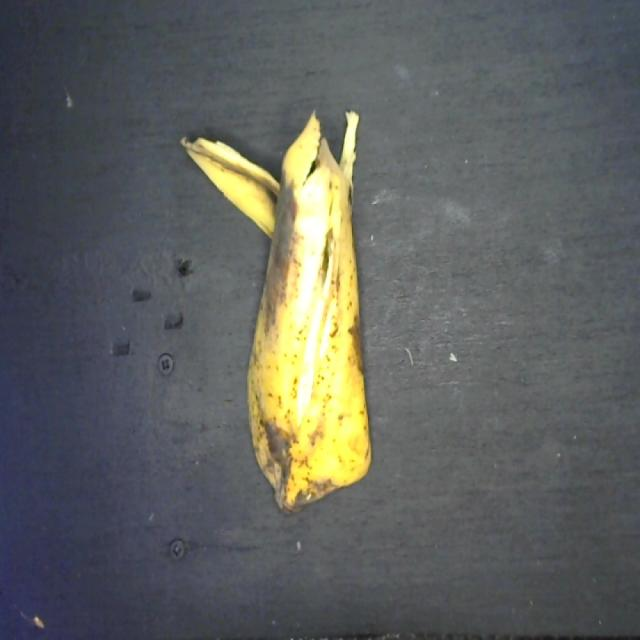biodegradable: (177, 102, 376, 522)
